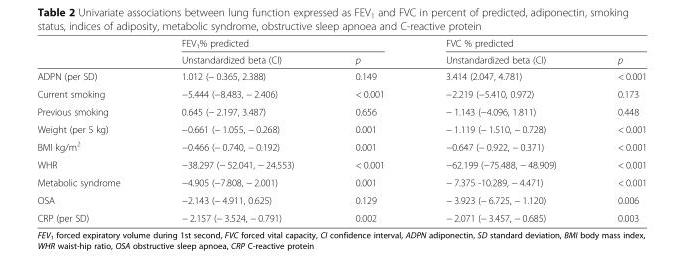table: (36, 37, 646, 223)
table column: (150, 37, 324, 223), (414, 37, 586, 223), (36, 37, 150, 223), (324, 37, 414, 223), (586, 37, 646, 223)
table column header: (36, 37, 646, 67)
table row: (36, 84, 646, 102), (36, 119, 646, 137), (36, 137, 646, 155), (36, 155, 646, 173), (36, 190, 646, 208), (36, 67, 646, 84), (36, 102, 646, 119), (36, 173, 646, 190), (36, 51, 646, 67), (36, 208, 646, 223), (36, 37, 646, 51)
table spanning cell: (150, 37, 414, 51), (414, 37, 646, 51)
